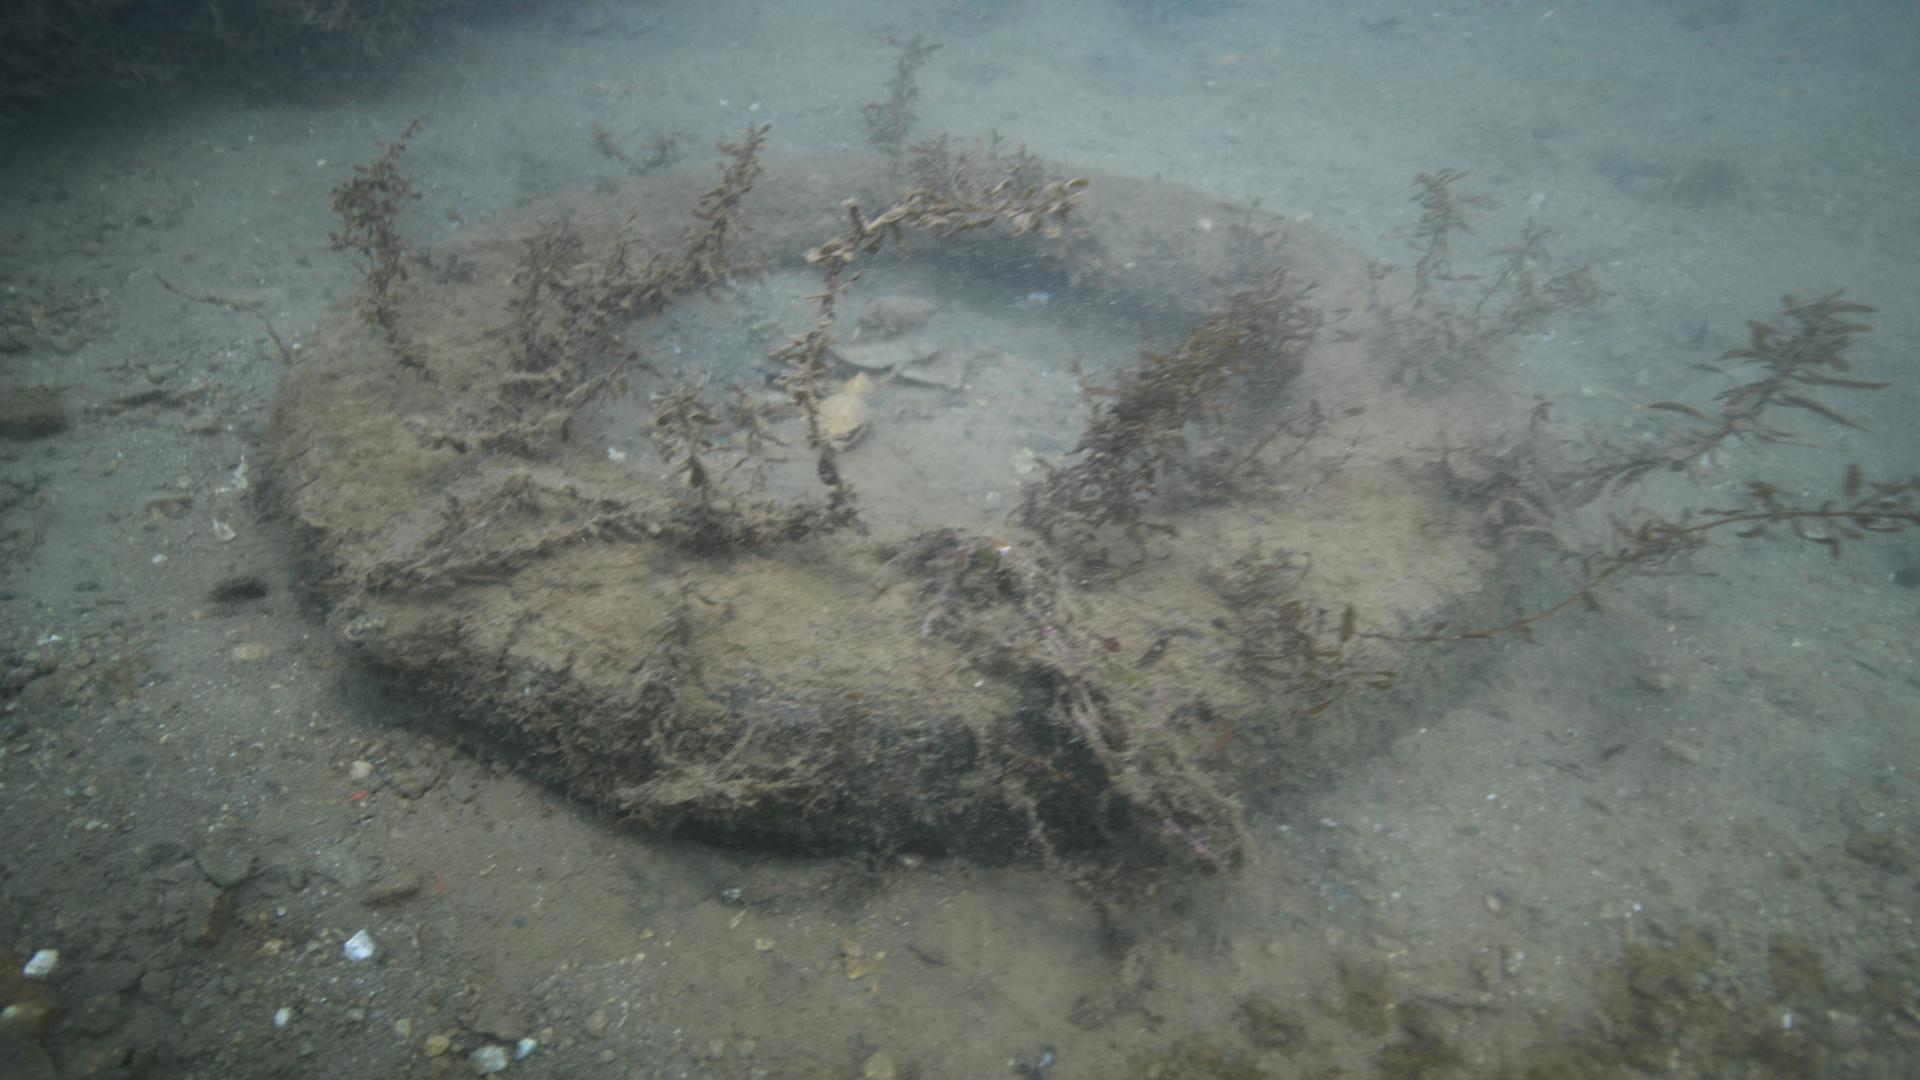tire: (265, 146, 1532, 851)
